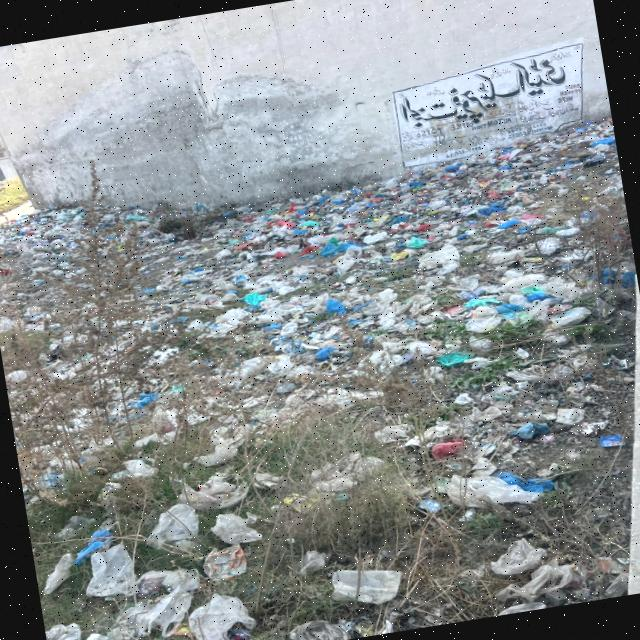garbage: (212, 141, 634, 374), (13, 391, 322, 640), (384, 344, 593, 536), (0, 184, 207, 342)
